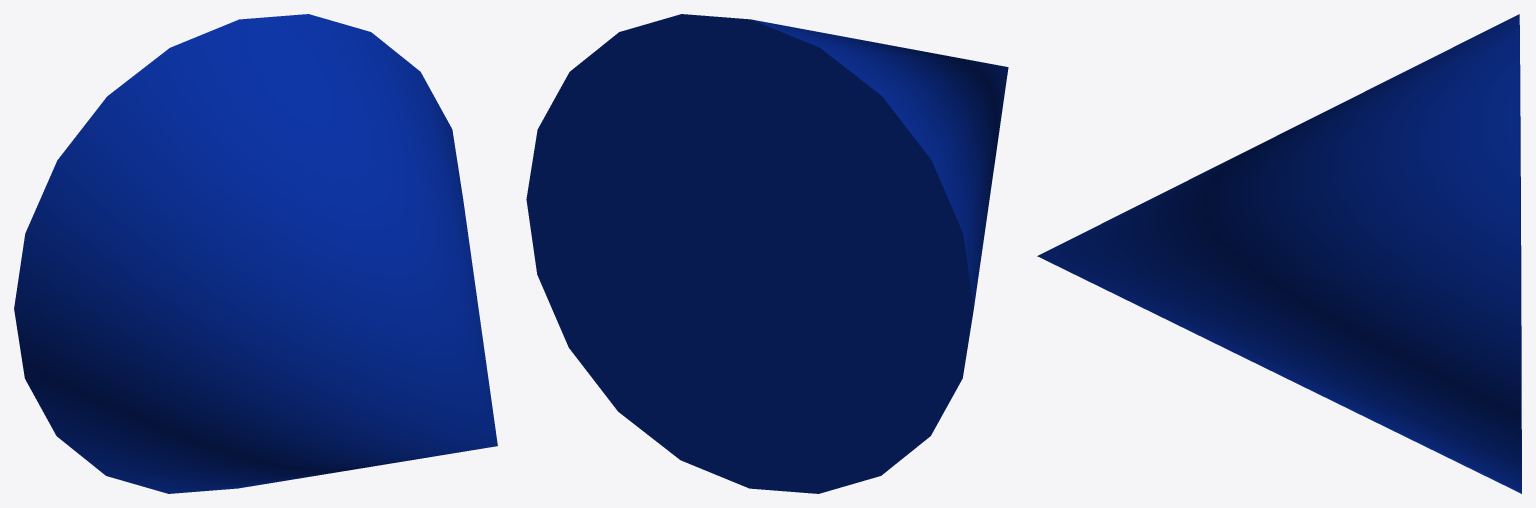
File: playerModel.fbx
The picture shows the model from 3 angles, left to right: view 1: azimuth 30°, elevation 25°; view 2: azimuth 150°, elevation 25°; view 3: azimuth 270°, elevation 25°; orthographic projection. The views are drawn at different scales.
Parts seen in each view (by area): view 1: pCone1; view 2: pCone1; view 3: pCone1.
Boxes of the visible parts, left/top/right/bottom form: pCone1: left=14, top=14, right=497, bottom=493; pCone1: left=526, top=14, right=1008, bottom=493; pCone1: left=1037, top=14, right=1521, bottom=493.
Size of the model in its own units: 2 by 2 by 2.
